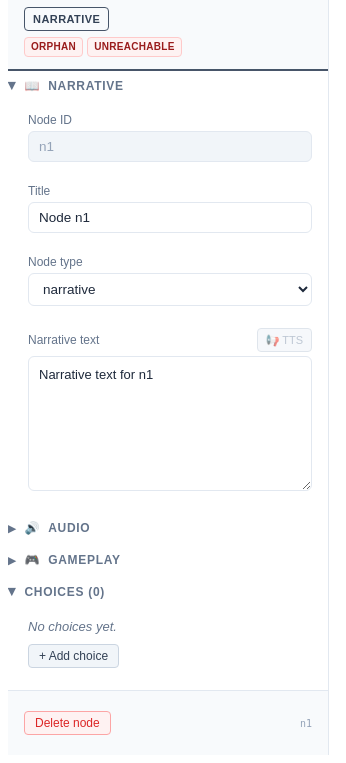
Test: CompanionPanel — delete node › cancels delete on Cancel click
This screenshot has width=346, height=763.
(page scrolled)
Click the button "Delete node" at point(67, 723), box x1=24 y1=711 x2=111 y2=735
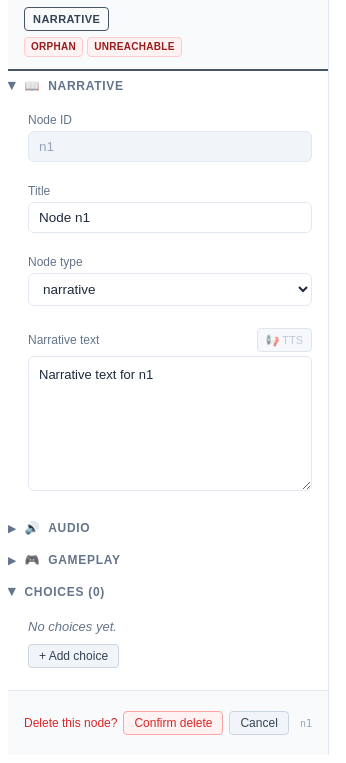
Click the button "Cancel" at point(259, 723), box x1=230 y1=711 x2=289 y2=735
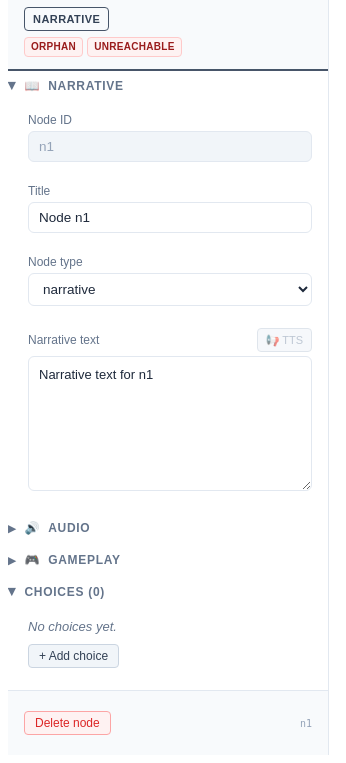
expect the button "Delete node" is shown: met, box x1=24 y1=711 x2=111 y2=735
